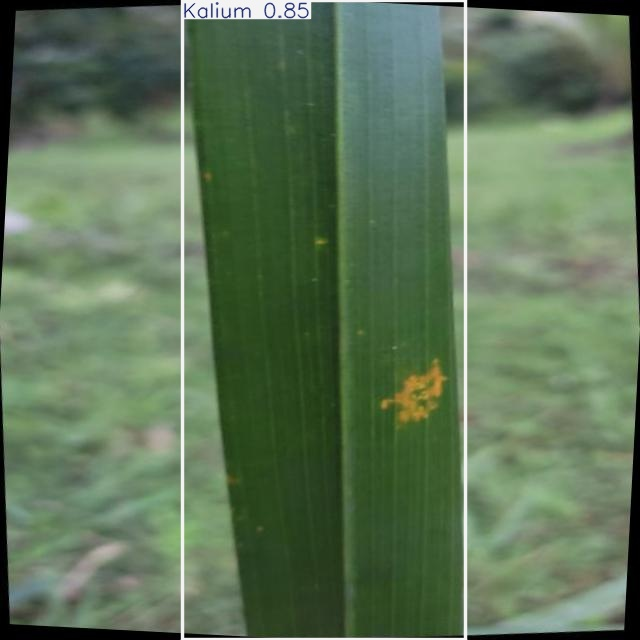Kalium: (182, 1, 466, 639)
